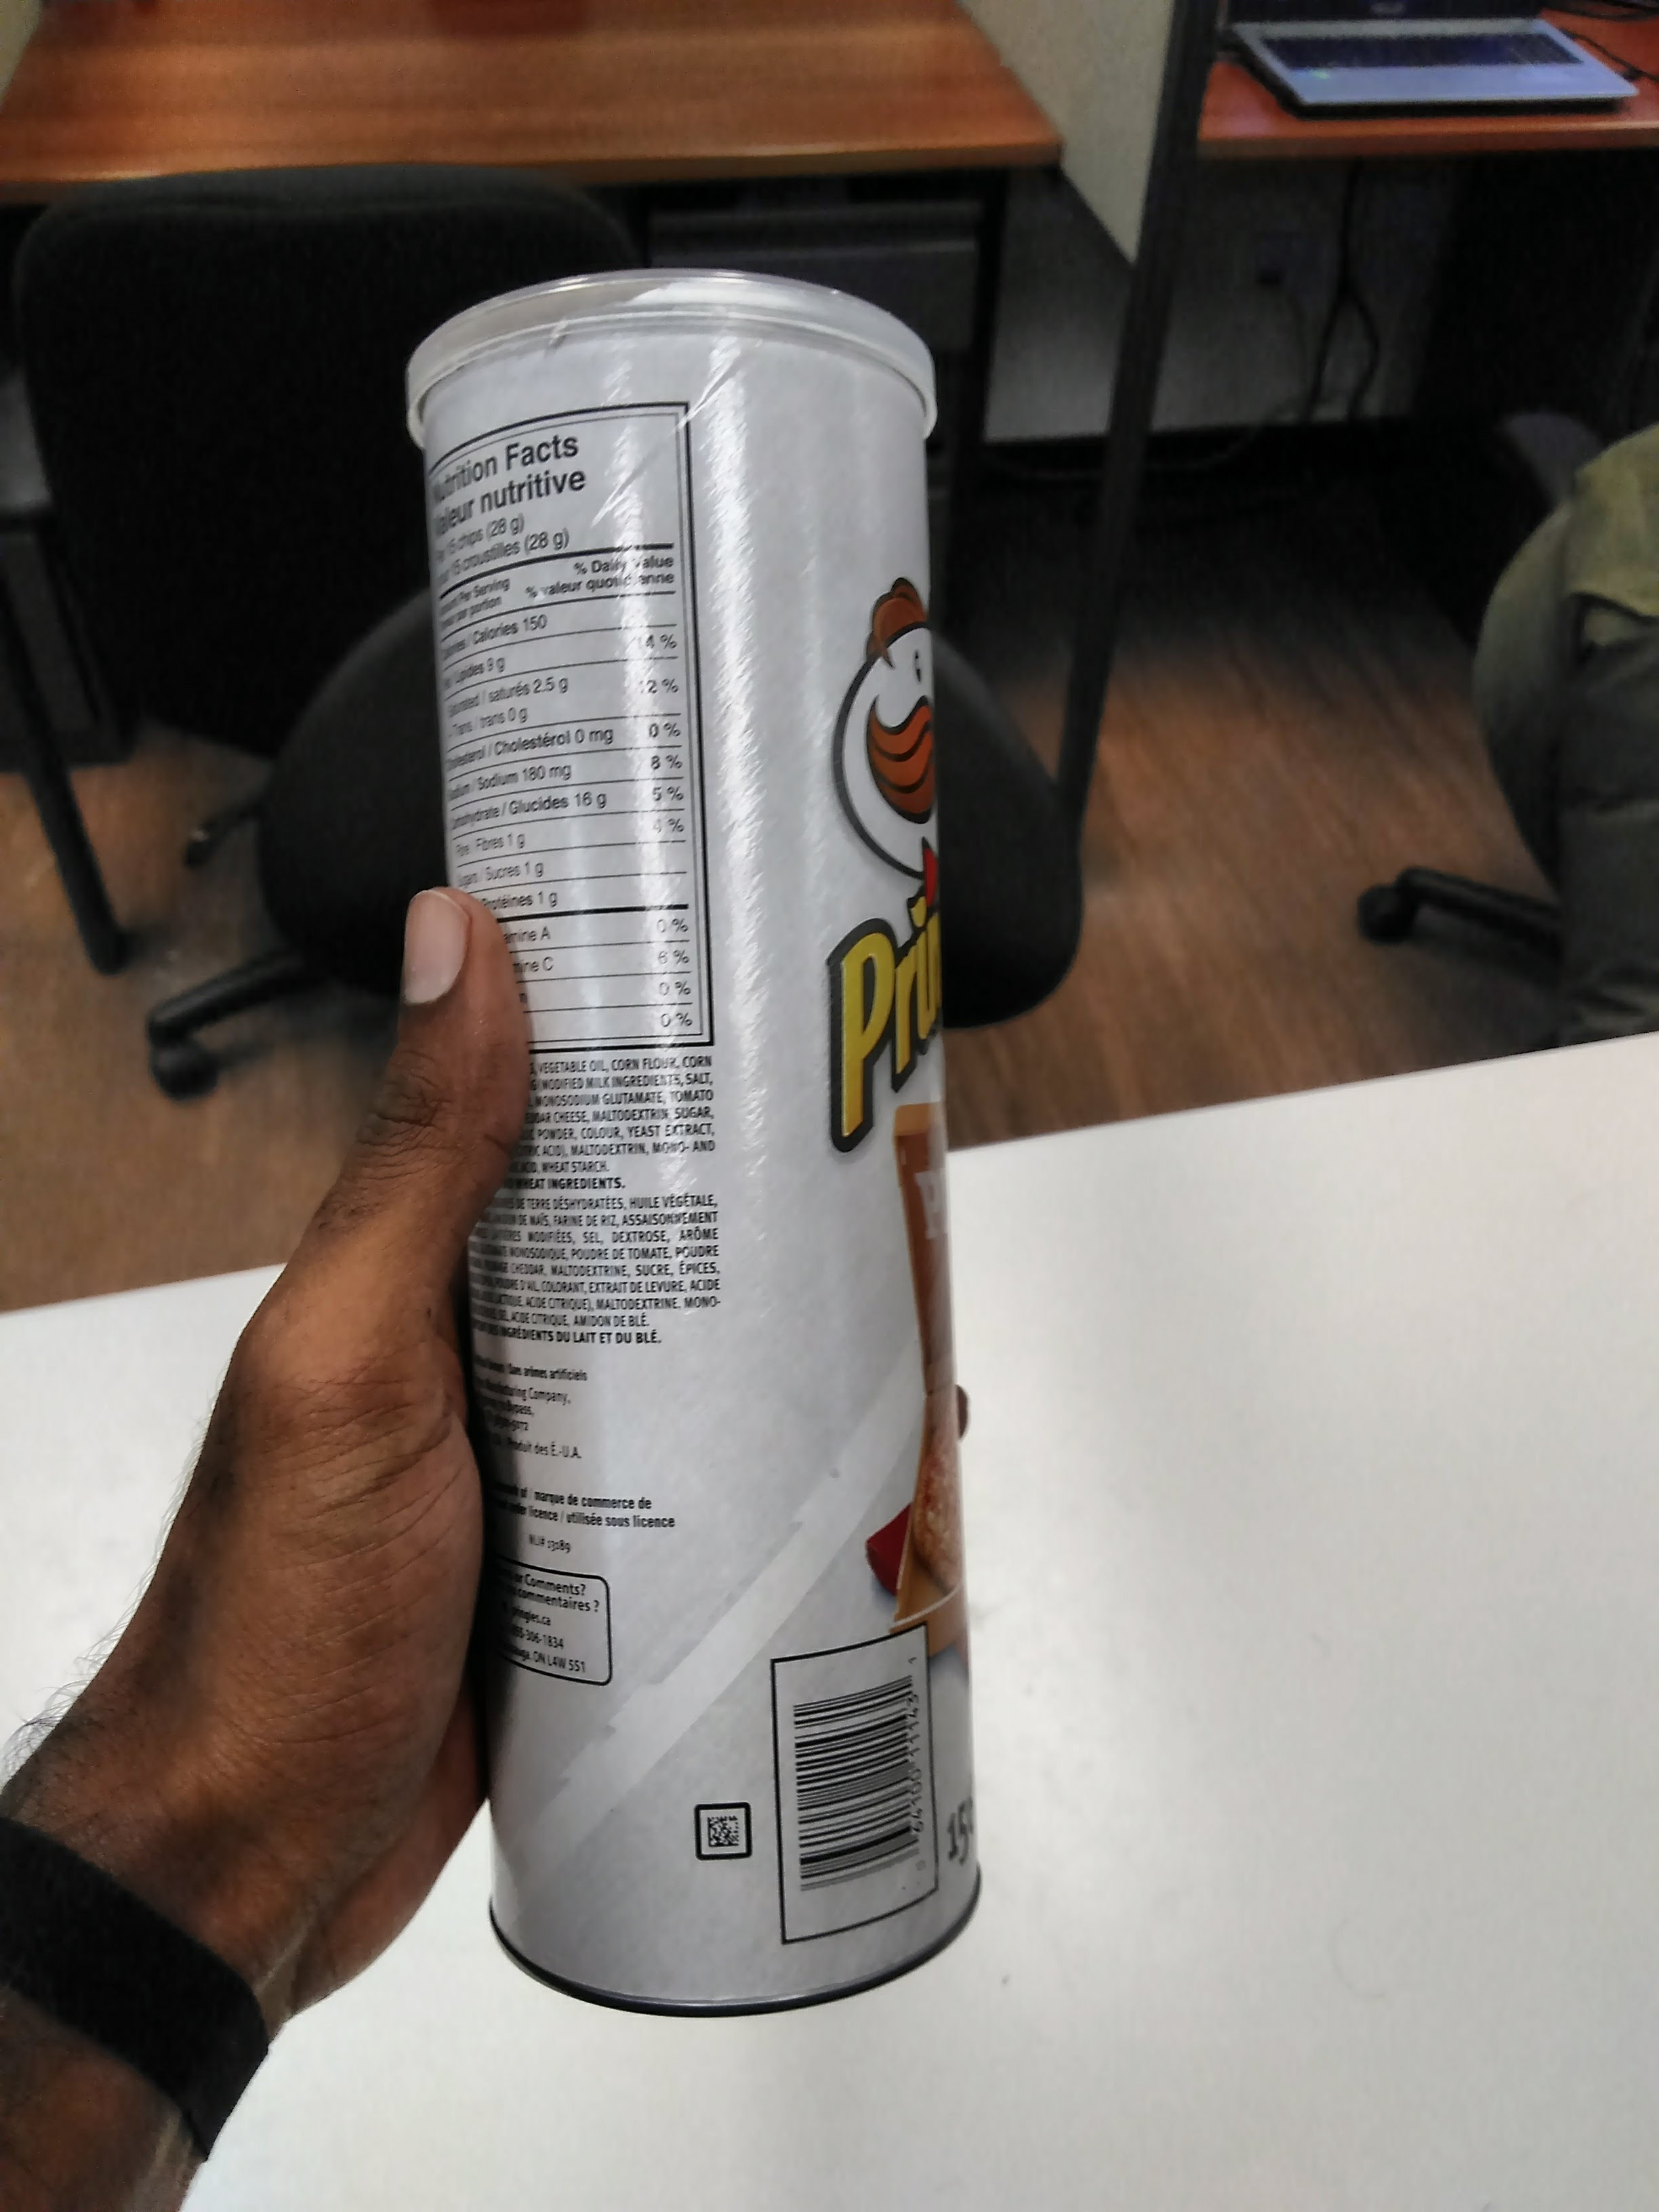pringles: (359, 239, 1037, 2041)
